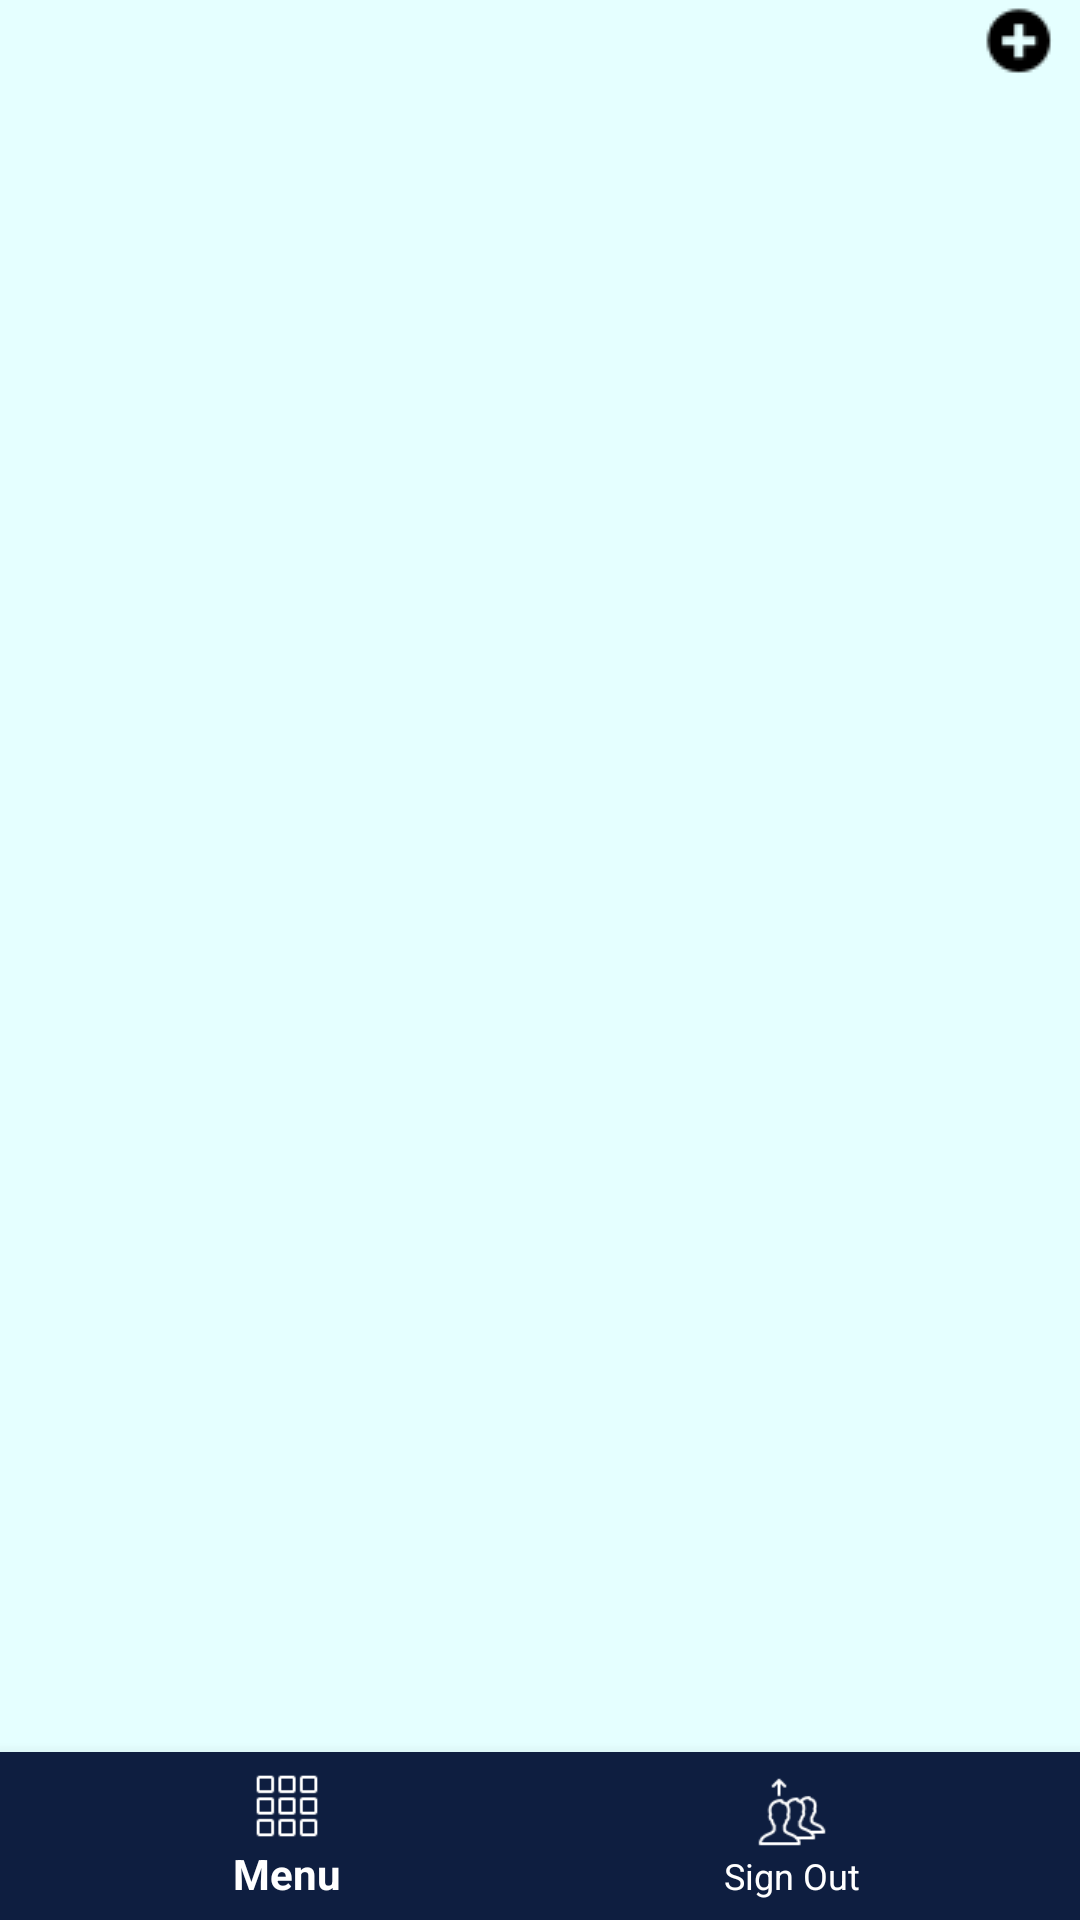

Named icons in this screenshot (1080*1920) and their bounding boxes, detection(x1, y1, x2, y2):
add: detection(986, 8, 1051, 73)
